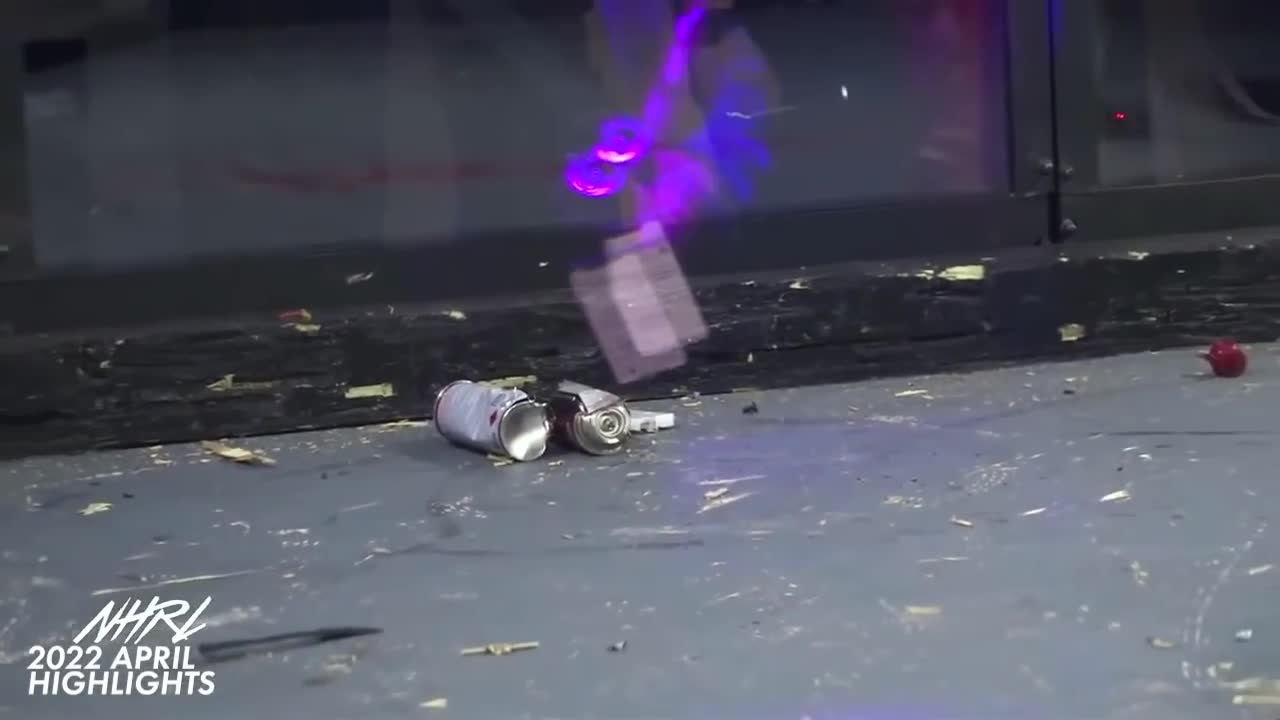debris: (434, 374, 679, 465), (186, 424, 292, 471), (1197, 337, 1253, 387)
